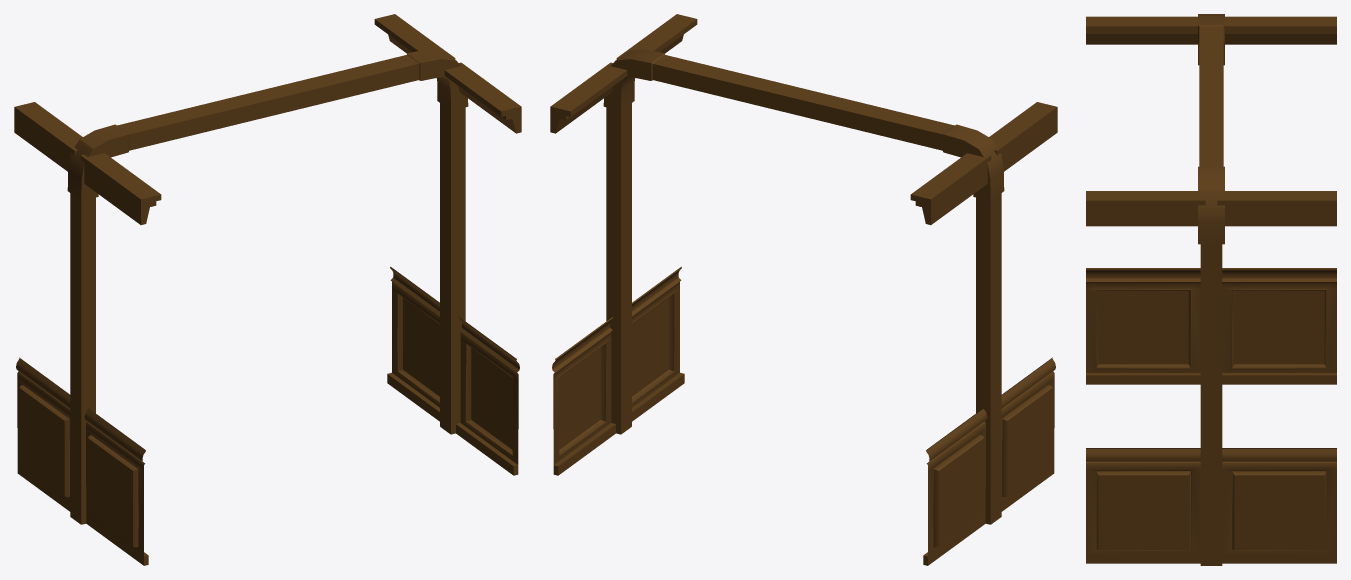
File: łuk_w_korytarzu_drewniany_kwadrat_obo_drzwi.fbx
3 renders of one model, left to right at view 1: azimuth 30°, elevation 25°; view 2: azimuth 150°, elevation 25°; view 3: azimuth 270°, elevation 25°, orthographic.
Parts seen in each view (by area): view 1: Cube.002; view 2: Cube.002; view 3: Cube.002.
Part boxes in pixels (x1,y1,x2,y2): Cube.002: (14, 14, 521, 565); Cube.002: (550, 14, 1057, 565); Cube.002: (1086, 14, 1336, 565).
Size of the model in its own units: 4493 by 4219 by 2544.
